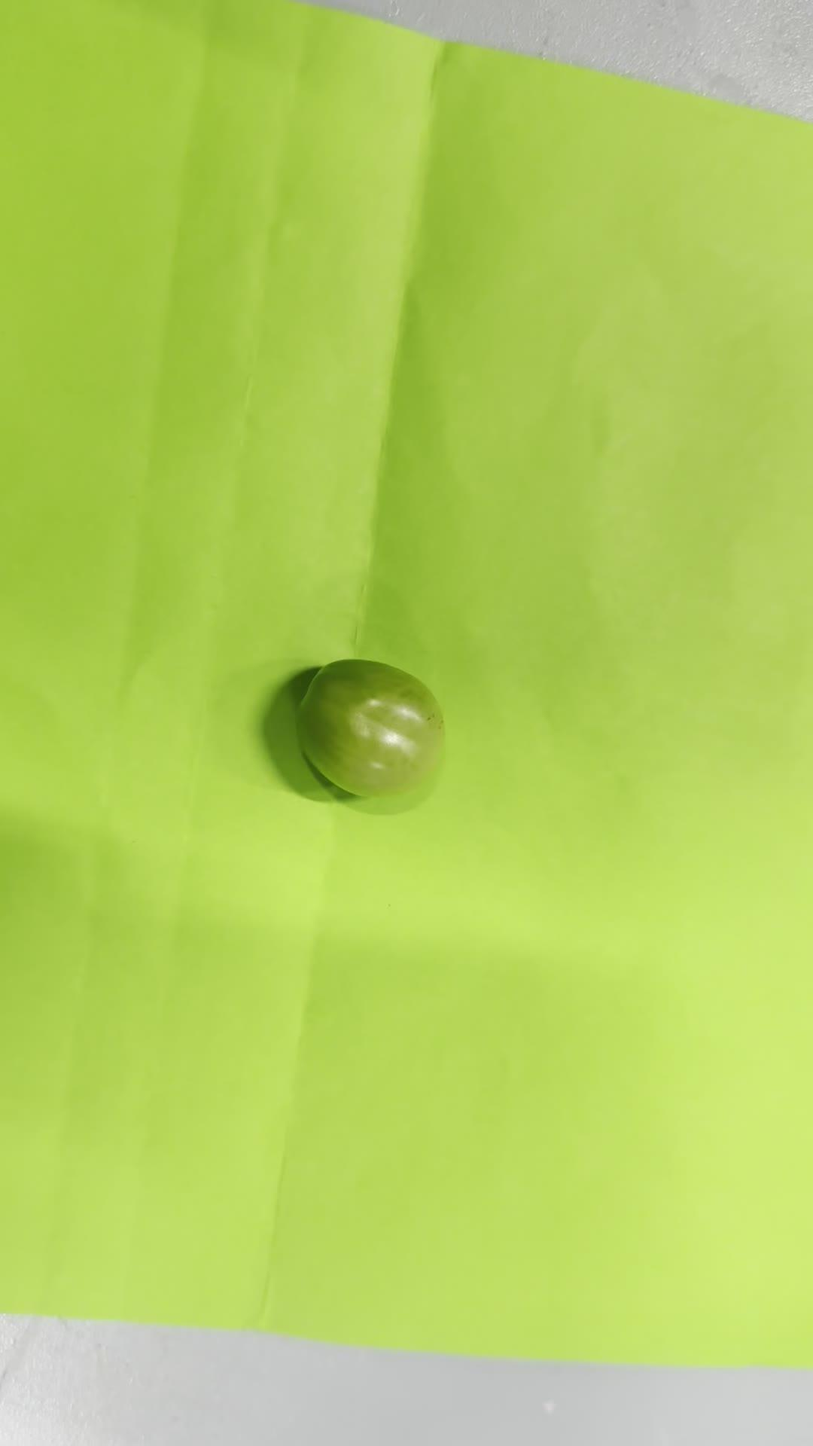green_cherry_tomato: (298, 659, 444, 798)
